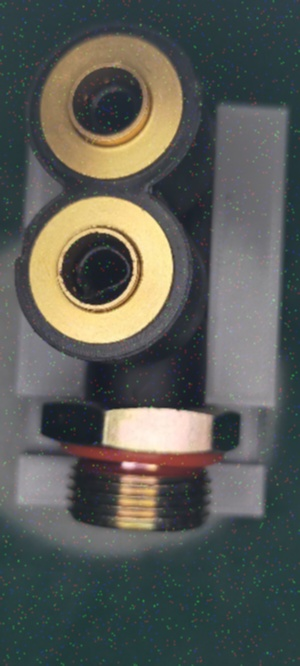bump: (10, 217, 39, 277)
off-centered: (62, 238, 135, 306)
